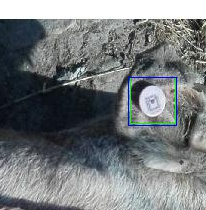text: (130, 77, 175, 123)
